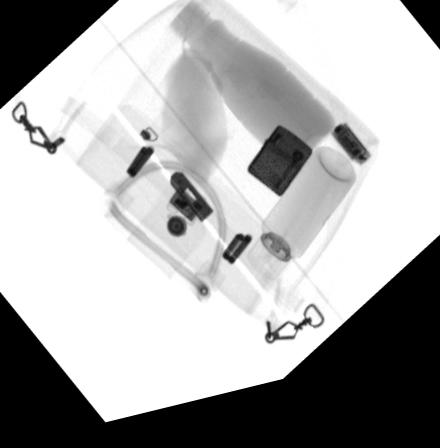Lighter: (246, 137, 312, 209)
Sprayer: (245, 162, 355, 294)
